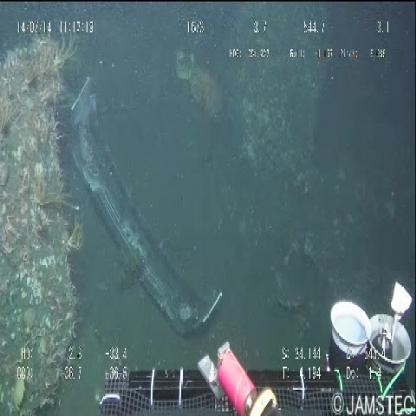Rov: (86, 274, 416, 411)
Rác: (66, 63, 226, 345)
